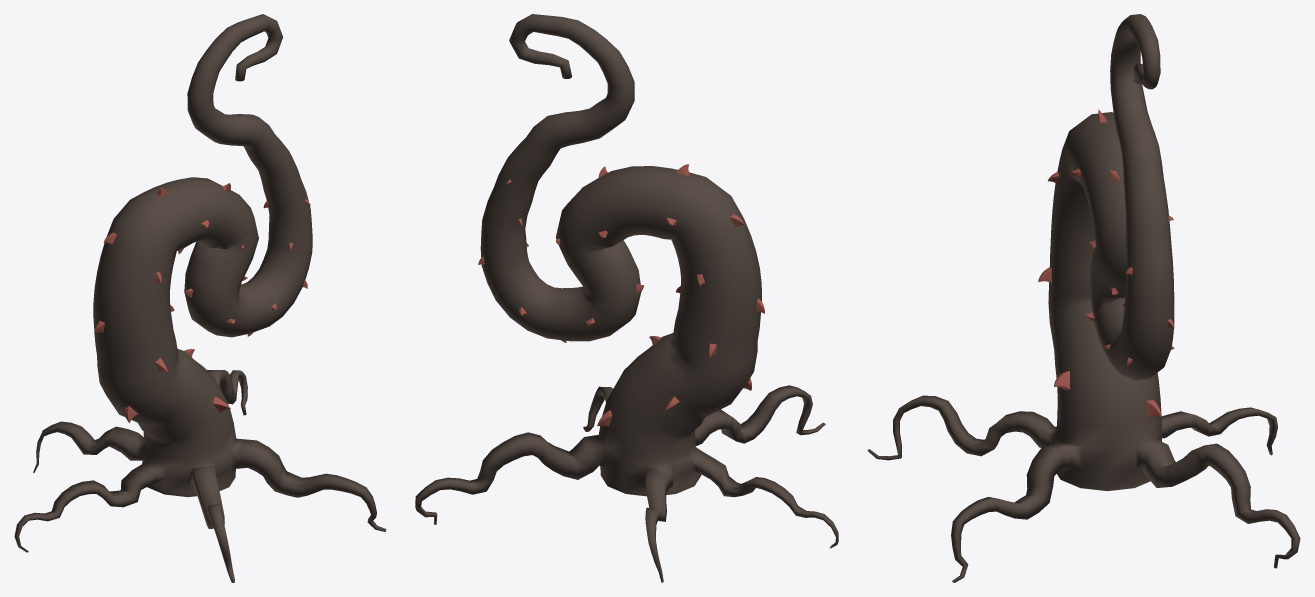
Rendered from RootArm01.fbx.
3 views of the same model, side by side, from view 1: azimuth 30°, elevation 25°; view 2: azimuth 150°, elevation 25°; view 3: azimuth 270°, elevation 25° (orthographic). The views are drawn at different scales.
Parts seen in each view (by area): view 1: 11_LOD0; view 2: 11_LOD0; view 3: 11_LOD0.
Part boxes in pixels (x1=…): 11_LOD0: x1=14, y1=14, x2=386, y2=582; 11_LOD0: x1=415, y1=14, x2=838, y2=582; 11_LOD0: x1=867, y1=14, x2=1300, y2=582.
Size of what is drawn, in the model's own units: 260 by 365 by 271.
